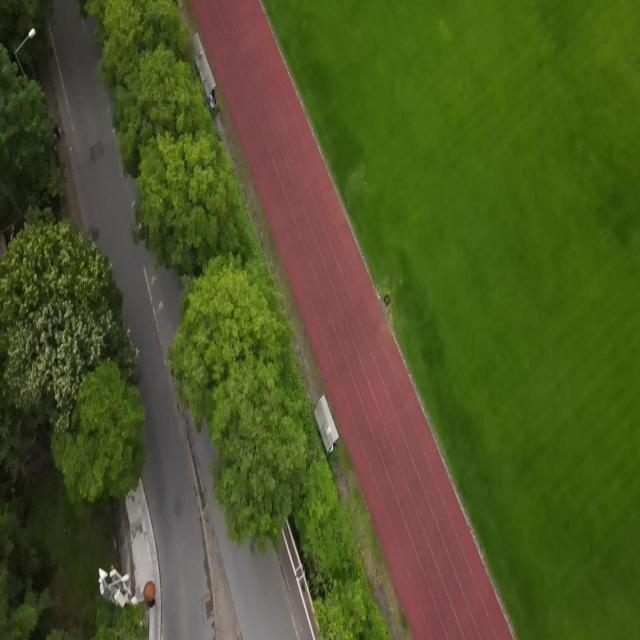p3rson: (54, 124, 60, 140)
